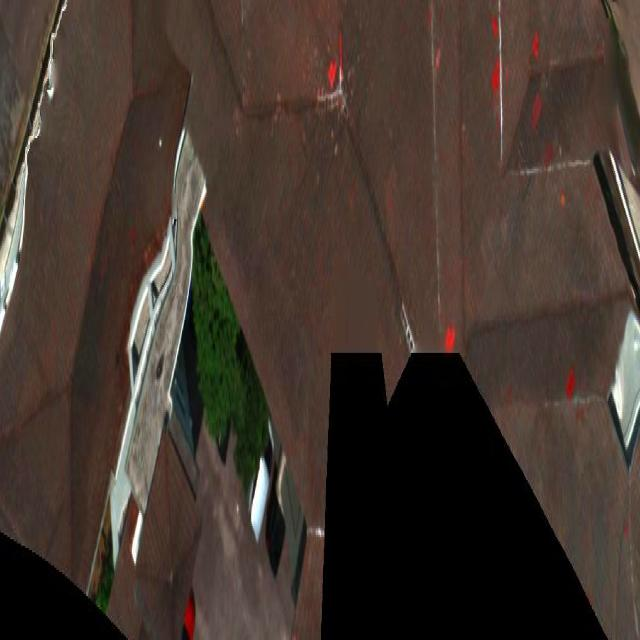Tree: (192, 210, 246, 445), (233, 339, 271, 503)
